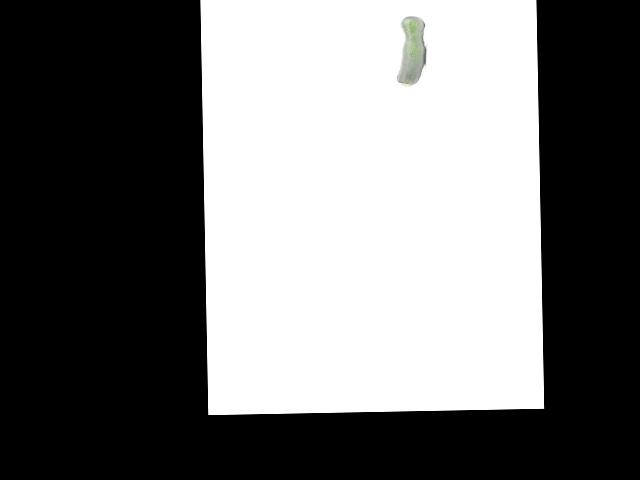cucumber: (395, 16, 426, 87)
